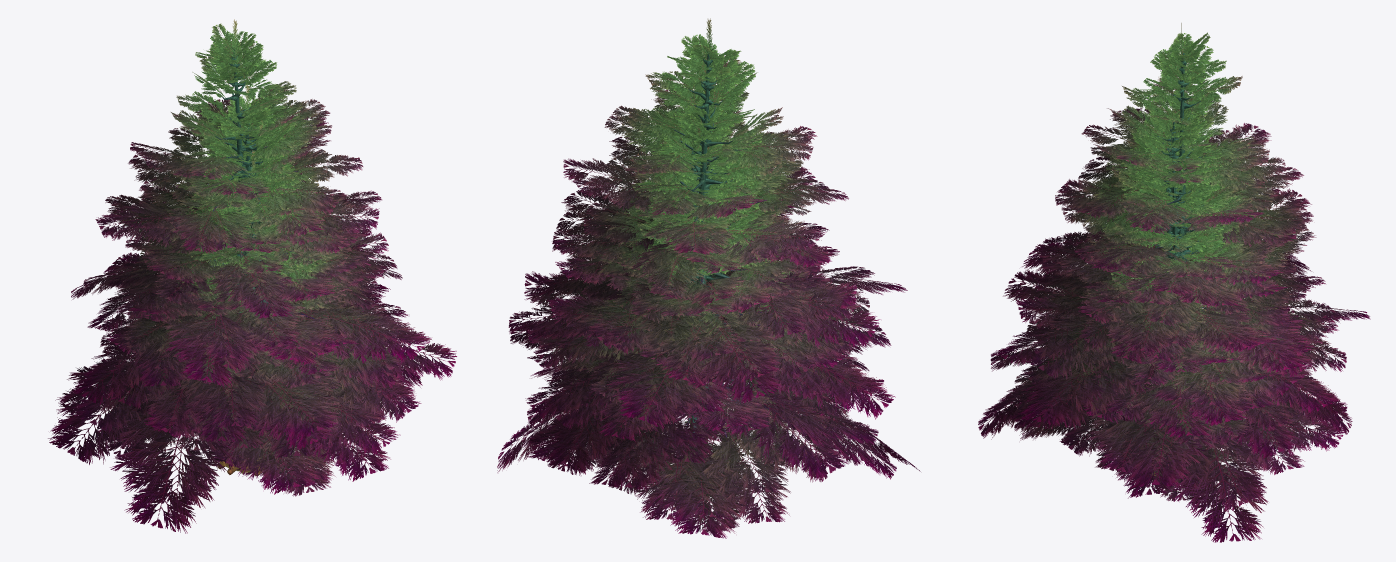
File: hero-pine-mid.glb
The picture shows the model from 3 angles, left to right: view 1: azimuth 30°, elevation 25°; view 2: azimuth 150°, elevation 25°; view 3: azimuth 270°, elevation 25°; orthographic projection. The views are drawn at different scales.
Visible parts, largest first — view 1: v2-leaf, v1-leaf, v3-leaf, v0-leaf, v2-wood, v1-wood; view 2: v2-leaf, v1-leaf, v0-leaf, v3-leaf, v2-wood; view 3: v2-leaf, v1-leaf, v3-leaf, v0-leaf, v2-wood.
Part boxes in pixels (<box>): v2-leaf: <box>48,19,456,533</box>; v1-leaf: <box>71,84,421,454</box>; v3-leaf: <box>125,120,414,451</box>; v0-leaf: <box>96,150,422,496</box>; v2-wood: <box>192,49,319,473</box>; v1-wood: <box>196,123,296,476</box>; v2-leaf: <box>527,18,920,481</box>; v1-leaf: <box>497,88,895,490</box>; v0-leaf: <box>527,147,847,538</box>; v3-leaf: <box>510,135,883,441</box>; v2-wood: <box>645,52,768,461</box>; v2-leaf: <box>978,23,1370,458</box>; v1-leaf: <box>983,91,1347,542</box>; v3-leaf: <box>1017,138,1346,444</box>; v0-leaf: <box>1014,179,1344,511</box>; v2-wood: <box>1102,53,1227,481</box>.
Bounding box in the file's own units: 22.15 × 24.94 × 20.6.
Materials: 2 (2 with a texture image).
